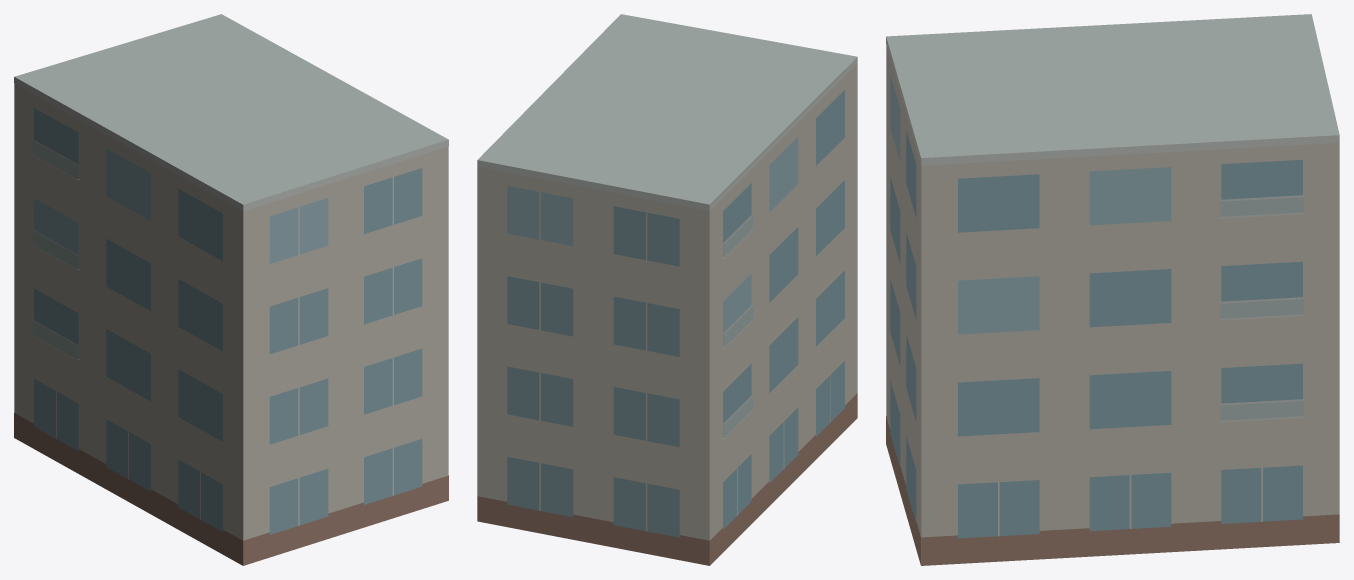
Rendered from survey-upis-33038643.glb.
3 views of the same model, side by side, from view 1: azimuth 30°, elevation 25°; view 2: azimuth 150°, elevation 25°; view 3: azimuth 270°, elevation 25° (orthographic). The views are drawn at different scales.
Visible parts, largest first — view 1: survey-upis-33038643.tmp; view 2: survey-upis-33038643.tmp; view 3: survey-upis-33038643.tmp.
Boxes of the visible parts, box(x1,y1,x2,y2) form: survey-upis-33038643.tmp: box(14, 14, 448, 565); survey-upis-33038643.tmp: box(477, 14, 857, 565); survey-upis-33038643.tmp: box(886, 14, 1339, 565).
Bounding box in the file's own units: 9.94 × 13.1 × 13.22.
